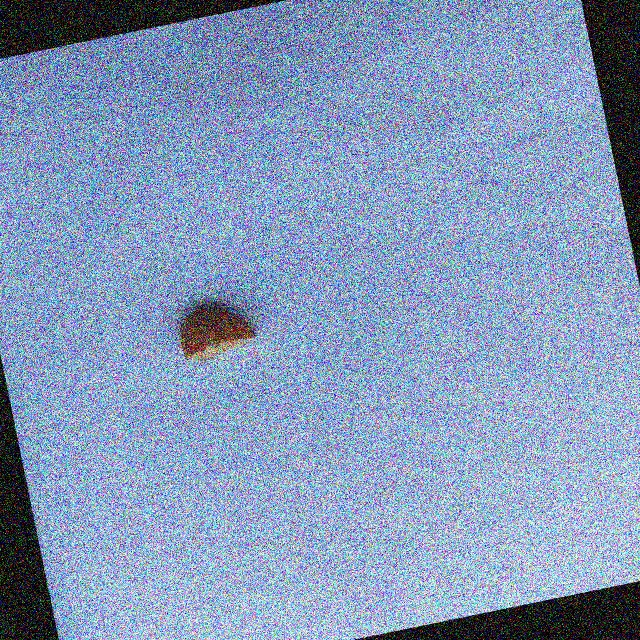grade4: (167, 291, 268, 370)
